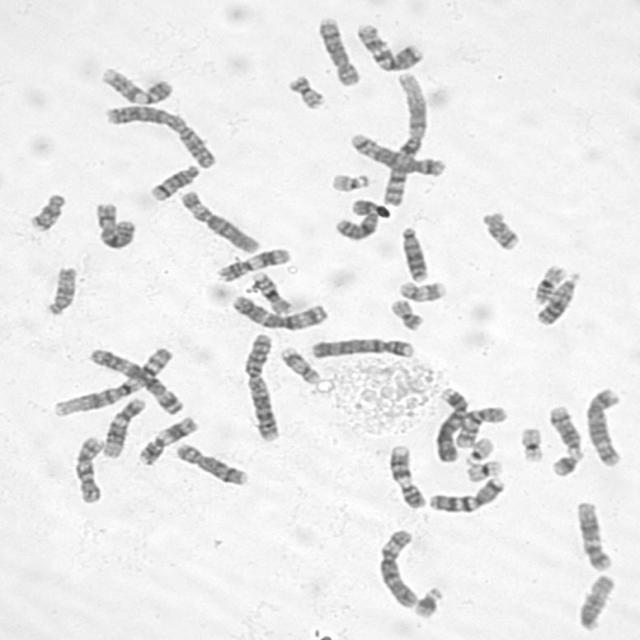A1: (50, 343, 176, 419), (378, 70, 431, 208)
A2: (102, 102, 218, 170), (240, 329, 283, 444)
A3: (86, 346, 185, 416), (227, 292, 329, 332)
B4: (431, 384, 470, 464), (308, 334, 417, 361)
B5: (348, 130, 447, 178), (583, 385, 624, 468)
C10: (70, 433, 106, 505), (452, 403, 508, 449)
C11: (135, 414, 200, 465), (214, 245, 292, 281)
C12: (99, 394, 148, 458), (573, 499, 614, 571)
C6: (178, 187, 262, 255), (374, 527, 420, 608)
C7: (353, 20, 425, 72), (424, 474, 506, 514)
C8: (172, 440, 251, 486), (314, 14, 362, 87)
C9: (98, 64, 175, 106), (386, 442, 426, 509)
D13: (532, 269, 581, 327), (396, 223, 429, 283)
D14: (146, 162, 201, 202), (546, 404, 583, 454)
D15: (574, 571, 617, 632), (43, 263, 79, 318)
E16: (248, 269, 294, 316), (530, 262, 566, 305)
E17: (278, 344, 322, 385), (396, 279, 448, 303)
E18: (478, 208, 520, 252), (27, 190, 68, 233)
F19: (517, 424, 546, 464), (463, 458, 504, 483)
F20: (284, 71, 328, 111), (388, 296, 424, 331)
G21: (411, 584, 446, 620), (548, 448, 585, 478)
G22: (461, 433, 497, 466), (328, 170, 371, 193)
X: (92, 199, 138, 250), (332, 198, 380, 240)
